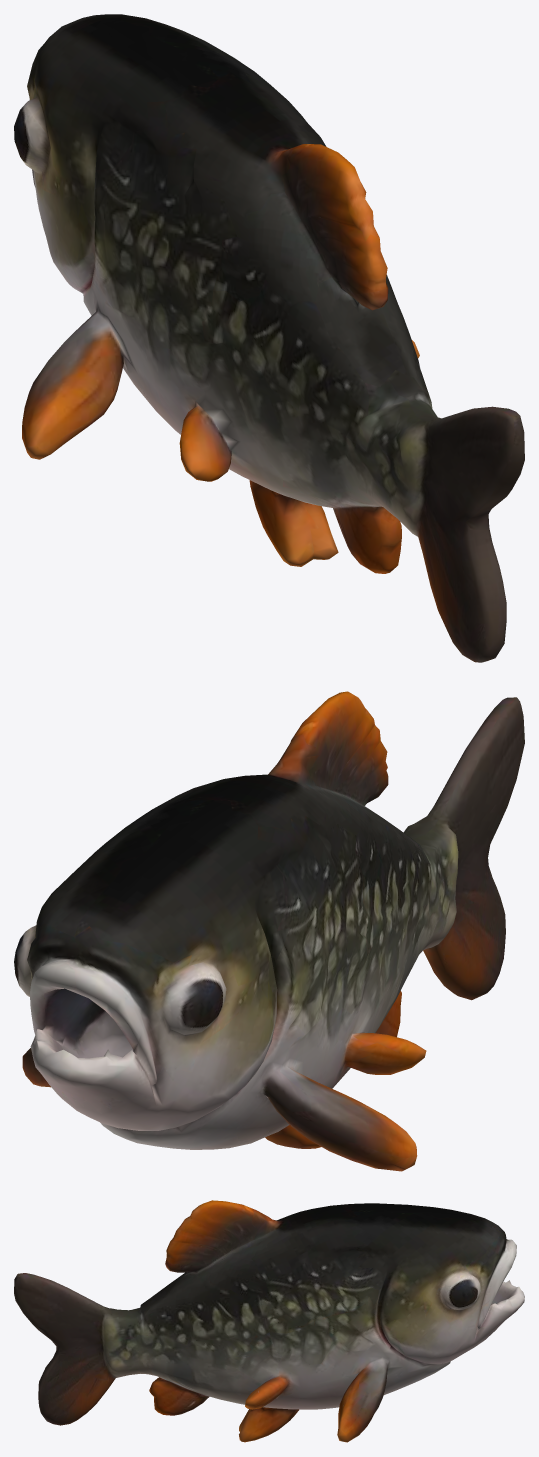
File: kkeuri.glb
3 renders of one model, top to bottom at view 1: azimuth 30°, elevation 25°; view 2: azimuth 150°, elevation 25°; view 3: azimuth 270°, elevation 25°, orthographic. The views are drawn at different scales.
Parts seen in each view (by area): view 1: tripo_node_5dcb7b6c-b0ef-4608-afa5-f8c470fb9186; view 2: tripo_node_5dcb7b6c-b0ef-4608-afa5-f8c470fb9186; view 3: tripo_node_5dcb7b6c-b0ef-4608-afa5-f8c470fb9186.
Boxes of the visible parts, <box> form: tripo_node_5dcb7b6c-b0ef-4608-afa5-f8c470fb9186: <box>14,14,524,662</box>; tripo_node_5dcb7b6c-b0ef-4608-afa5-f8c470fb9186: <box>14,691,524,1171</box>; tripo_node_5dcb7b6c-b0ef-4608-afa5-f8c470fb9186: <box>14,1200,524,1442</box>.
Bounding box in the file's own units: 0.49 × 0.5123 × 1.
Materials: 1 (1 with a texture image).
